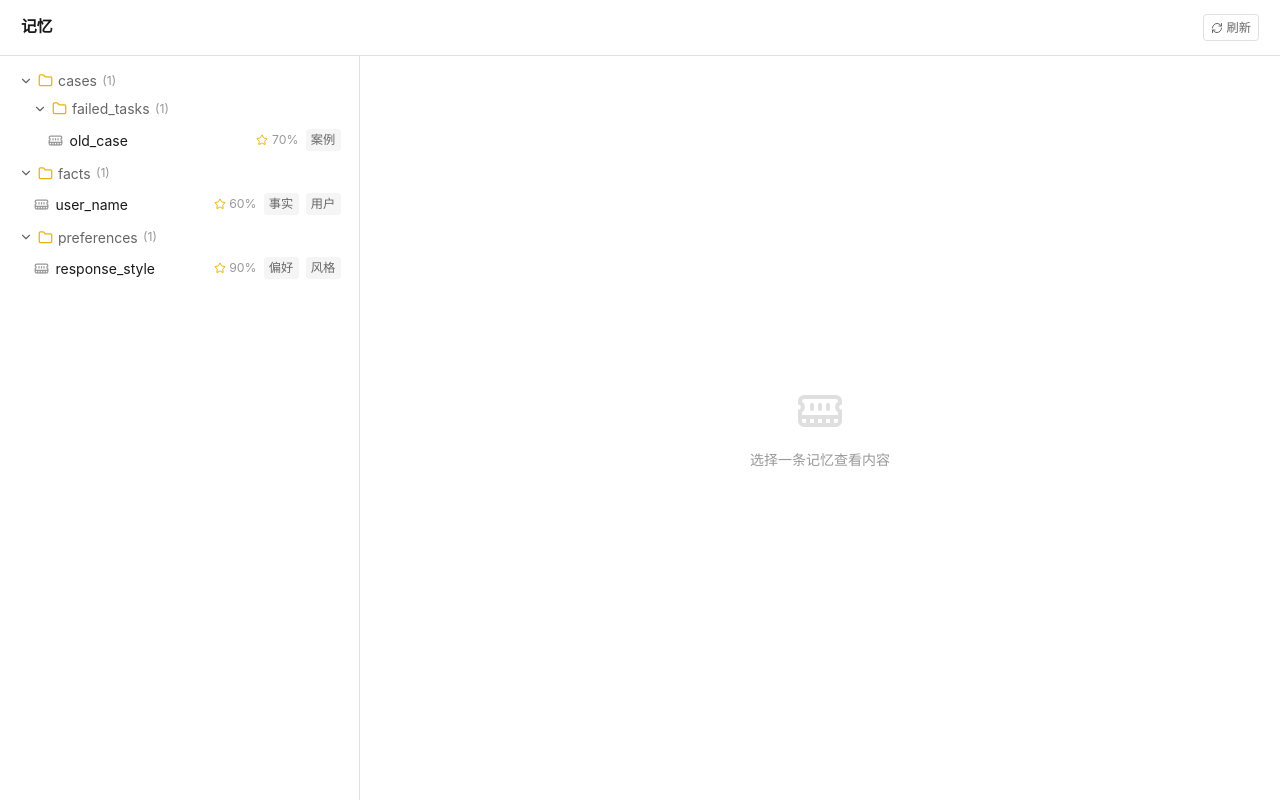
Test case: MemoryPanel › switches L0/L1/L2 levels (default = most detailed available)
# 点击三层齐全的条目 → 默认 L2 详情
Click the text "response_style". click: (105, 268)
box: [56,258,155,279]
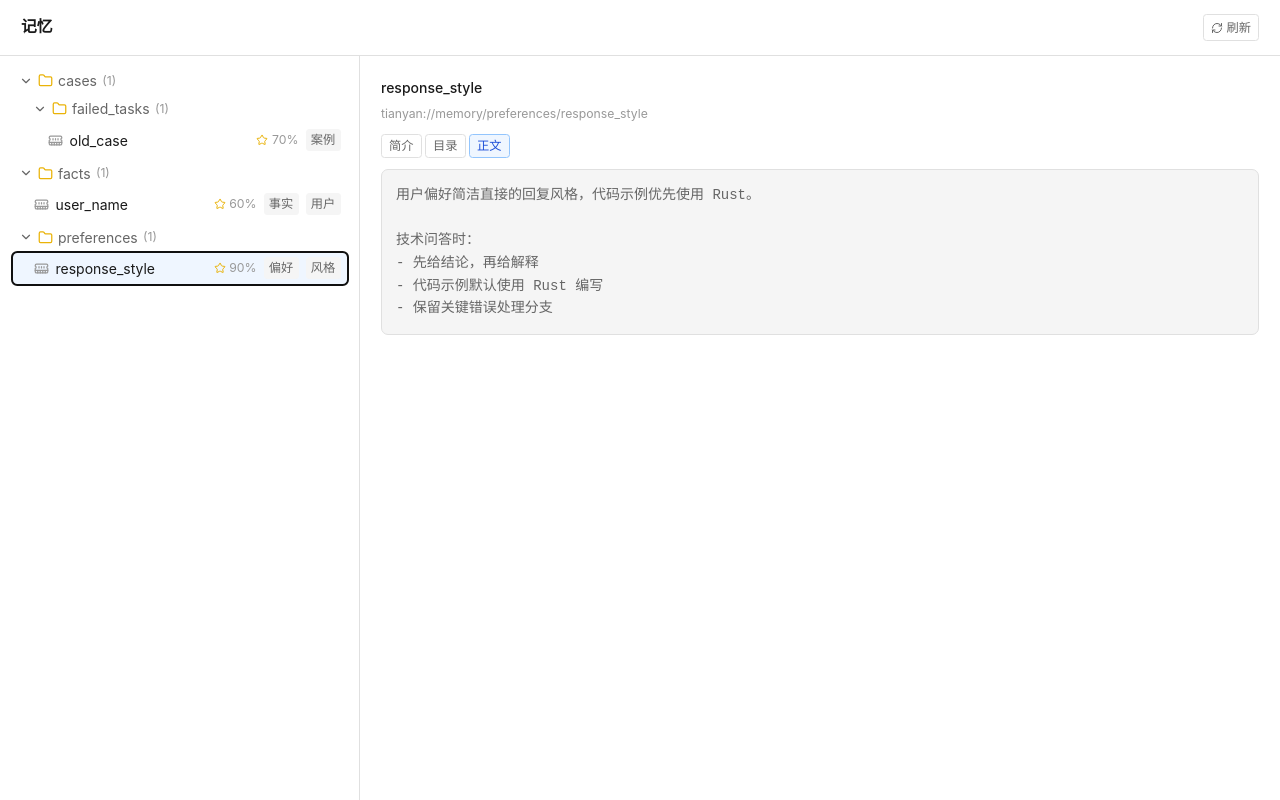
Check: the text "技术问答时" is shown, box [396,187,760,316]
# 切到 L0 摘要
Click the tab "简介". click: (401, 146)
box: [381,134,422,158]
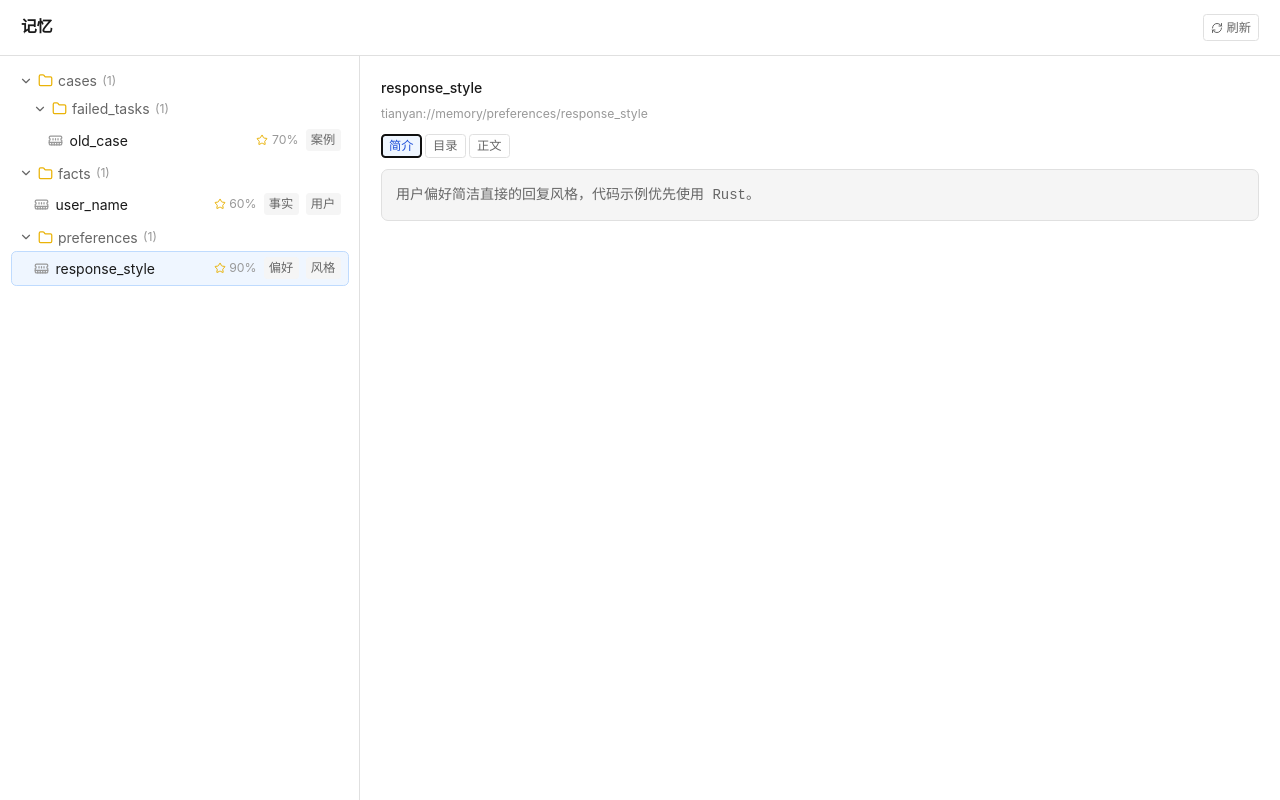
Check: the text "用户偏好简洁直接的回复风格，代码示例优先使用 Rust。" is shown, box [381,169,1259,221]
# 切到 L1 概览
Click the tab "目录". click: (445, 146)
box: [425,134,466,158]
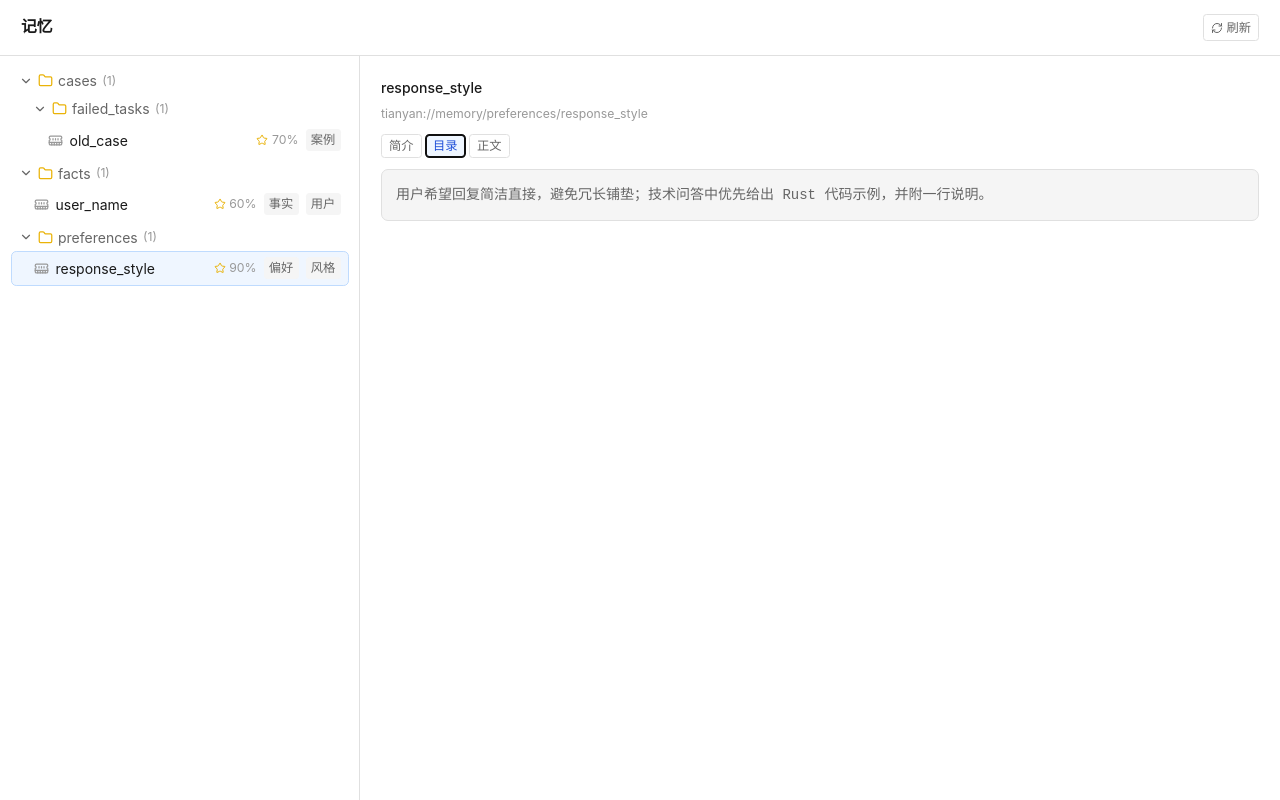
Check: the text "用户希望回复简洁直接，避免冗长铺垫；技术问答中优先给出 Rust 代码示例，并附一行说明。" is shown, box [381,169,1259,221]
# 点击只有 abstract 的条目 → 回退 L0，L1/L2 禁用
Click the text "user_name". click: (92, 204)
box: [56,194,128,215]
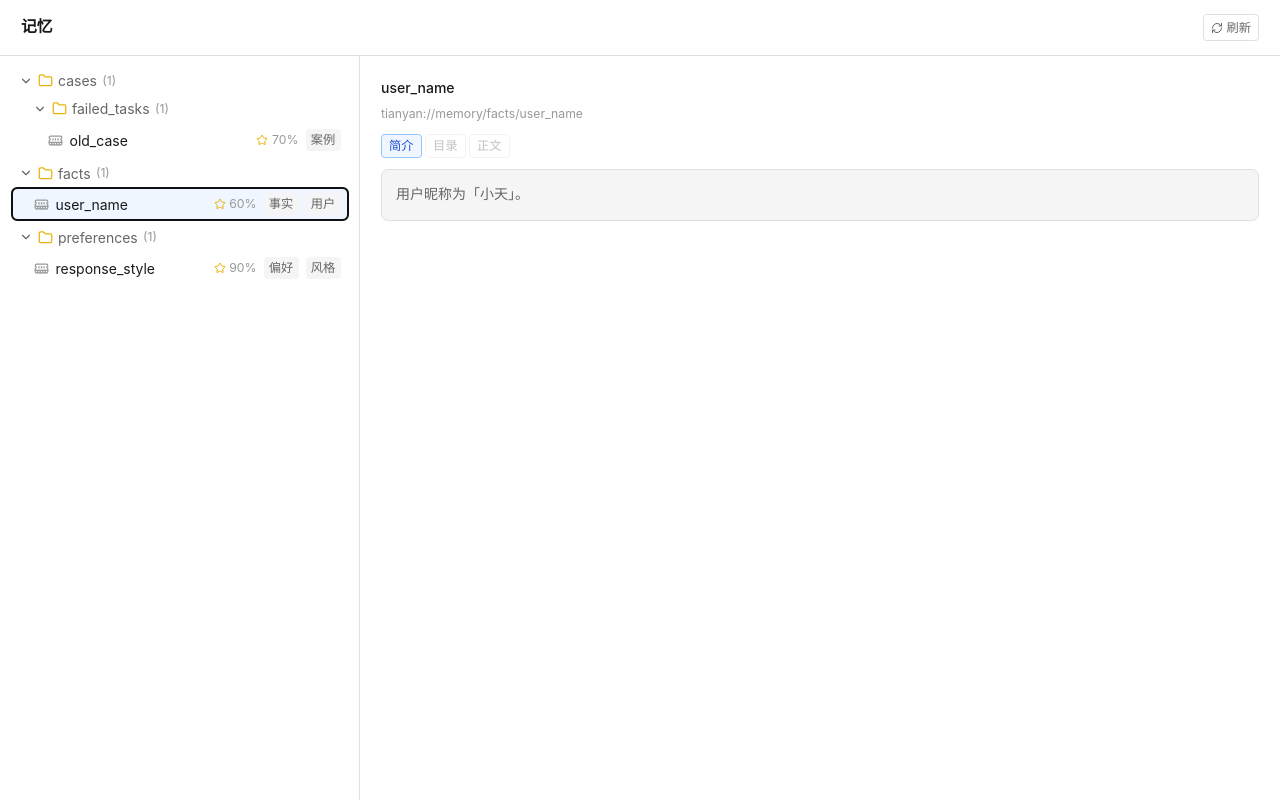
Check: the text "用户昵称为「小天」。" is shown, box [381,169,1259,221]
Check: the tab "目录" is disabled, box [425,134,466,158]
Check: the tab "正文" is disabled, box [469,134,510,158]
